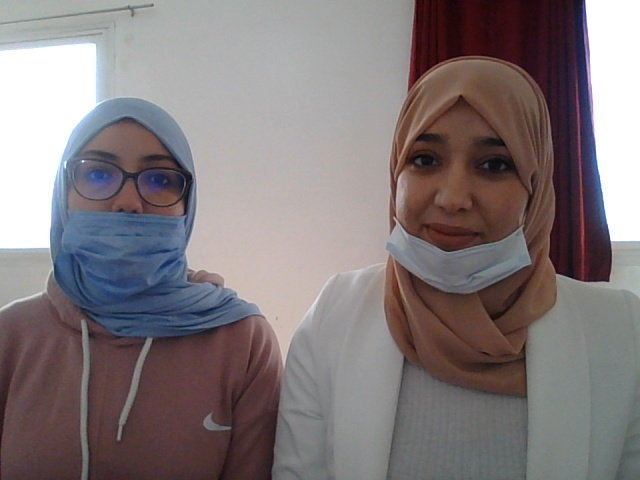mask_weared_incorrect: (380, 56, 576, 319), (40, 96, 204, 303)
